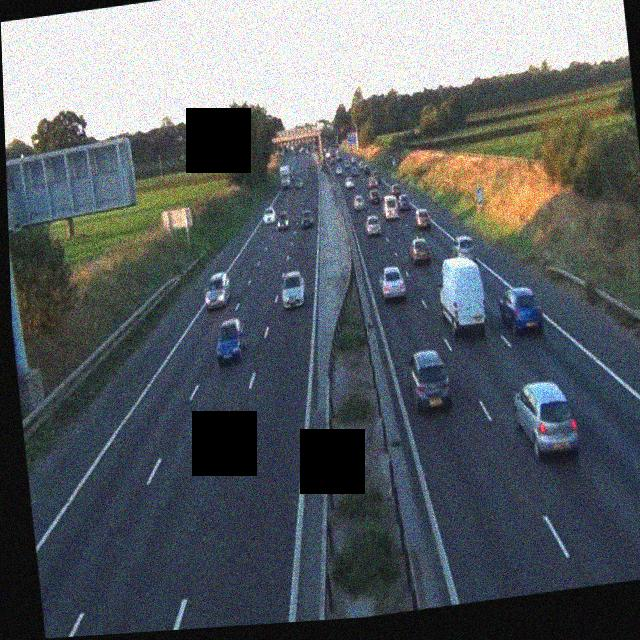car: (511, 378, 581, 461), (404, 346, 452, 413), (497, 283, 544, 337), (212, 314, 248, 365), (203, 271, 232, 311), (279, 267, 306, 309), (379, 264, 408, 301), (408, 233, 431, 264), (454, 235, 476, 257), (383, 196, 400, 221), (365, 213, 382, 237), (415, 208, 431, 230), (299, 208, 313, 230), (276, 209, 290, 231), (399, 193, 414, 213), (263, 205, 277, 224), (353, 193, 366, 211), (368, 188, 381, 204), (391, 182, 402, 197), (344, 174, 354, 189), (335, 164, 345, 178)
truck: (436, 253, 488, 339), (278, 164, 293, 190)
